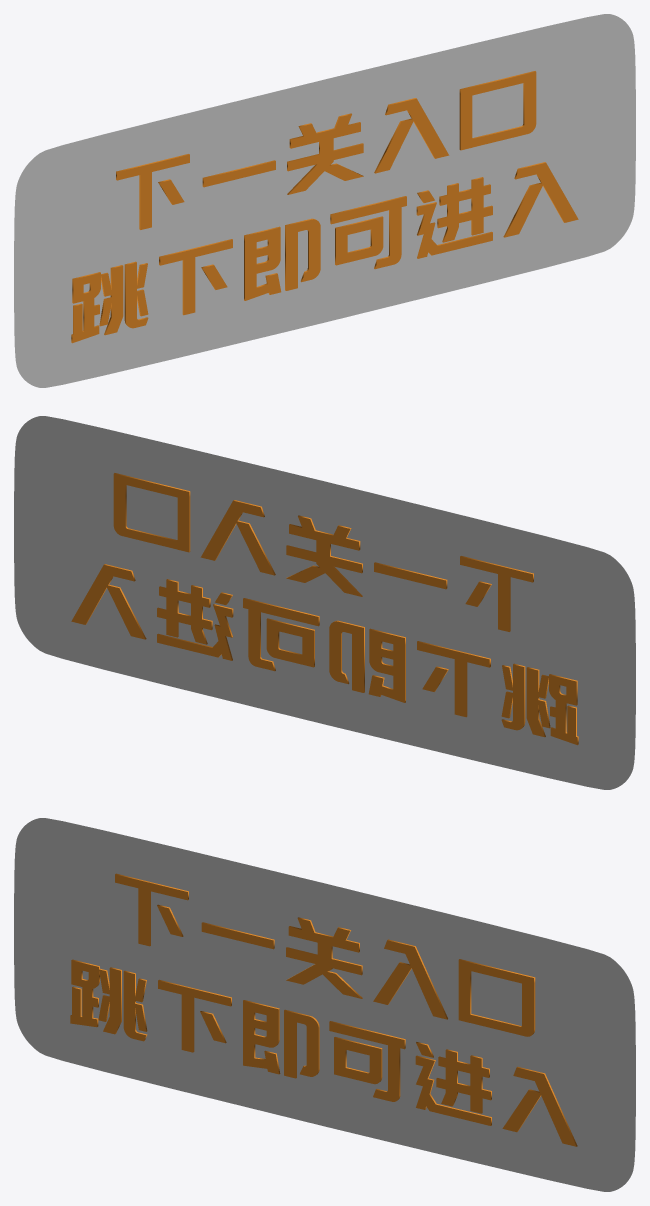
Rendered from 下一关入口提示牌.fbx.
3 renders of one model, top to bottom at view 1: azimuth 30°, elevation 25°; view 2: azimuth 150°, elevation 25°; view 3: azimuth 330°, elevation 25°, orthographic.
Visible parts, largest first — view 1: 平面; view 2: 平面; view 3: 平面.
Boxes of the visible parts, x1=… form: 平面: x1=14, y1=14, x2=635, y2=387; 平面: x1=14, y1=416, x2=635, y2=789; 平面: x1=14, y1=818, x2=635, y2=1191.
Bounding box in the file's own units: 150 × 56.01 × 0.8815.
